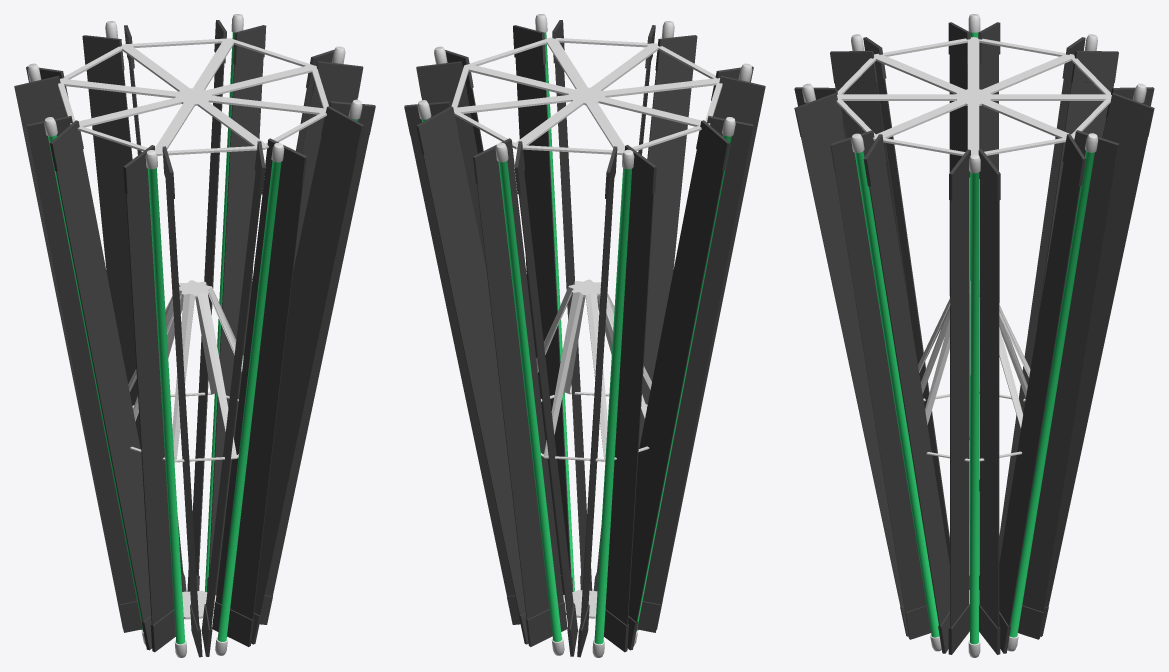
The model's file is Neon_Circular_002.fbx.
3 renders of one model, left to right at view 1: azimuth 30°, elevation 25°; view 2: azimuth 150°, elevation 25°; view 3: azimuth 270°, elevation 25°, orthographic.
Parts seen in each view (by area): view 1: Neon_Circular_002; view 2: Neon_Circular_002; view 3: Neon_Circular_002.
Boxes of the visible parts, x1=… form: Neon_Circular_002: x1=14, y1=14, x2=375, y2=657; Neon_Circular_002: x1=404, y1=14, x2=765, y2=657; Neon_Circular_002: x1=794, y1=14, x2=1154, y2=657.
Size of the model in its own units: 1.19 by 2 by 1.19.
